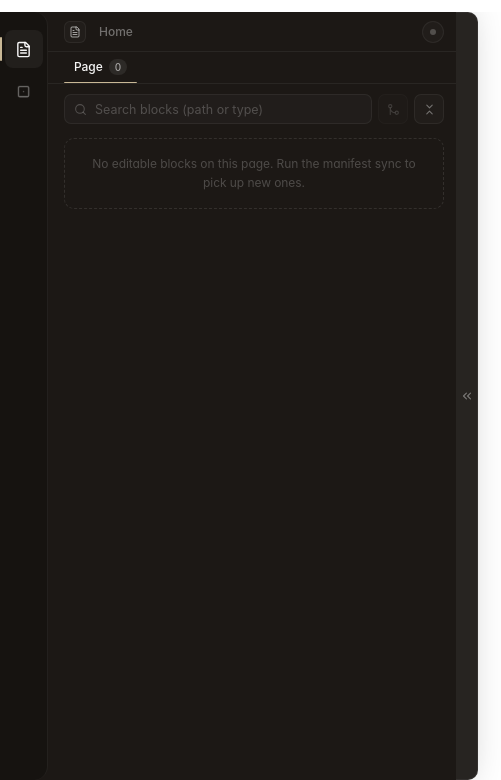
custom panels in the drawer › refuses another host outright rather than quietly dropping the credential
This screenshot has width=501, height=780.
Click the button named "Outbound": (24, 91) [4,72,42,110]
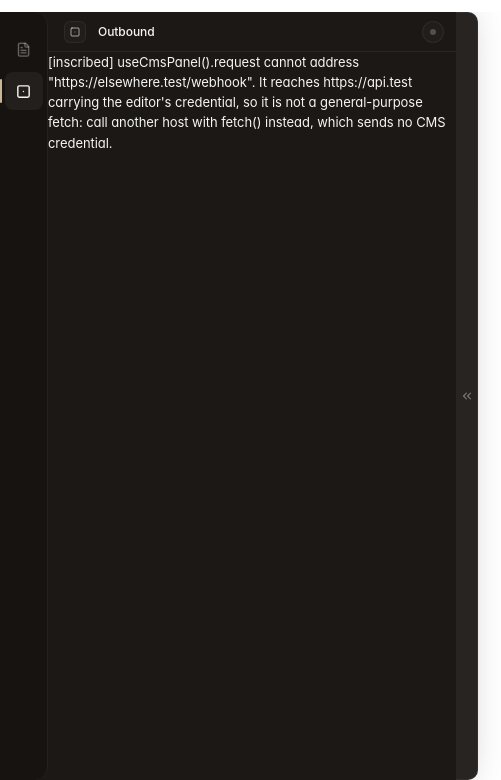
Expected: the text with test id "outbound" shows "fetch()", [48,54,446,151]
